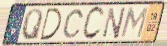C: (81, 5, 106, 42), (61, 8, 85, 40)
D: (39, 7, 63, 42)
M: (119, 6, 150, 39)
N: (101, 6, 128, 40)
Q: (20, 8, 44, 42)
